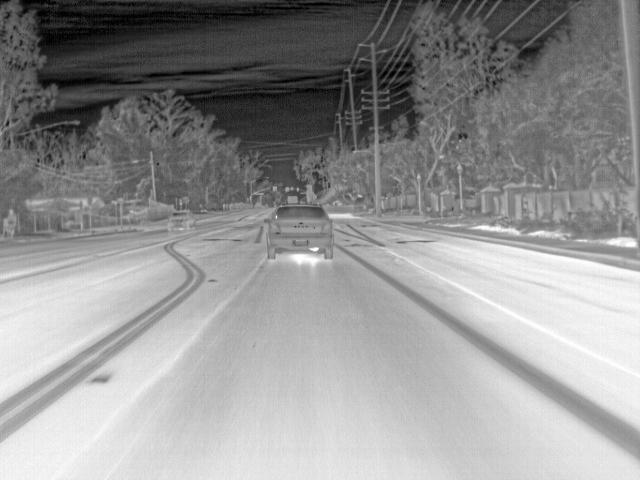car: (265, 204, 334, 260), (166, 210, 196, 232)
person: (2, 206, 17, 238)
